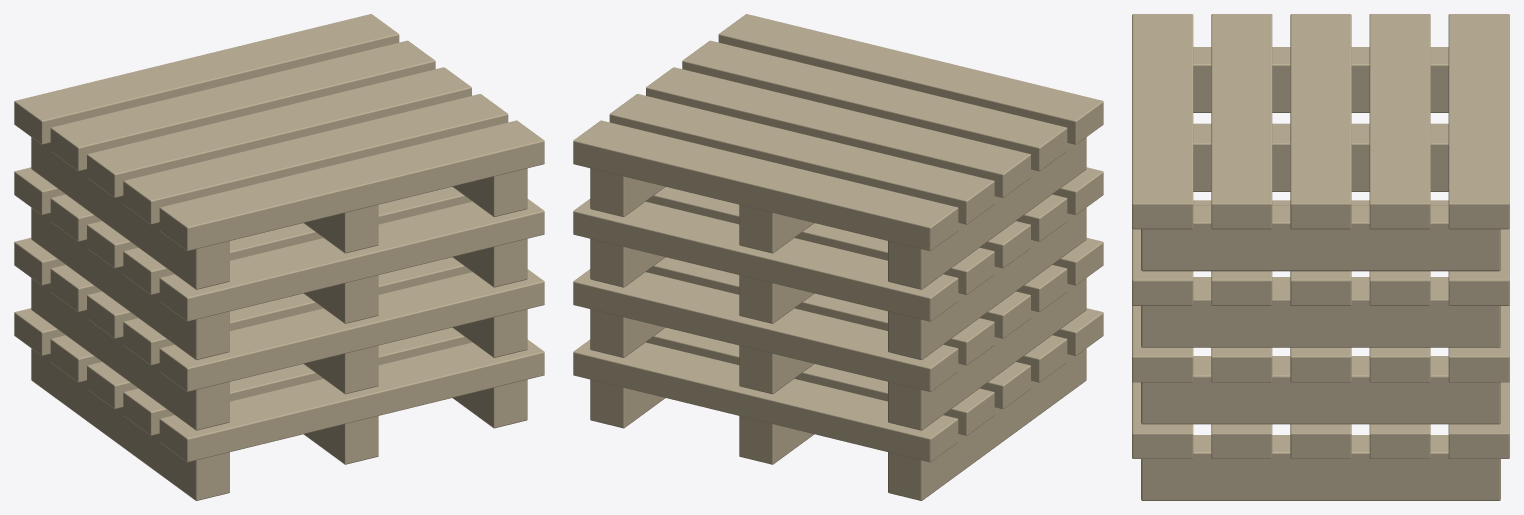
The model's file is F1_PalletStack.fbx.
3 views of the same model, side by side, from view 1: azimuth 30°, elevation 25°; view 2: azimuth 150°, elevation 25°; view 3: azimuth 270°, elevation 25° (orthographic). The views are drawn at different scales.
Parts seen in each view (by area): view 1: F1_PalletStack_LOD0; view 2: F1_PalletStack_LOD0; view 3: F1_PalletStack_LOD0.
Part boxes in pixels (x1=…): F1_PalletStack_LOD0: x1=14, y1=14, x2=544, y2=500; F1_PalletStack_LOD0: x1=573, y1=14, x2=1103, y2=500; F1_PalletStack_LOD0: x1=1132, y1=14, x2=1509, y2=500.
Size of what is drawn, in the model's own units: 125 by 93.5 by 105.
